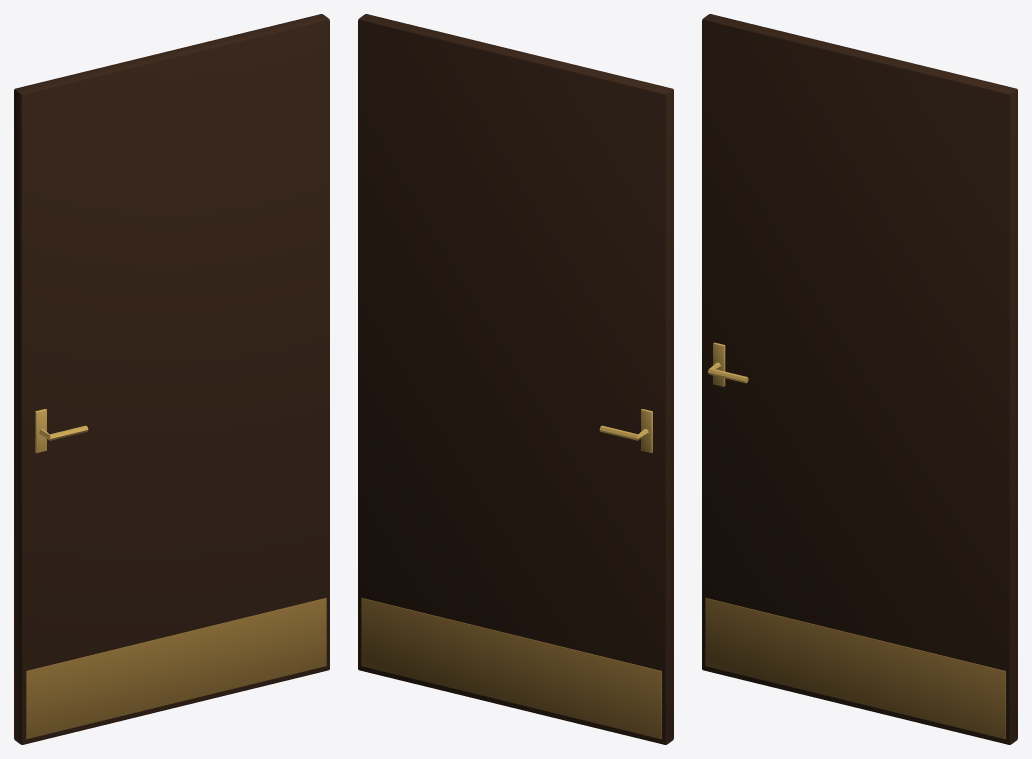
The model's file is door_wood.glb.
3 views of the same model, side by side, from view 1: azimuth 30°, elevation 25°; view 2: azimuth 150°, elevation 25°; view 3: azimuth 330°, elevation 25° (orthographic).
Parts seen in each view (by area): view 1: door_wood; view 2: door_wood; view 3: door_wood.
Boxes of the visible parts, x1=… form: door_wood: x1=14, y1=14, x2=329, y2=744; door_wood: x1=358, y1=14, x2=673, y2=744; door_wood: x1=702, y1=14, x2=1017, y2=744.
Size of the model in its own units: 1.09 by 2.2 by 0.19.
